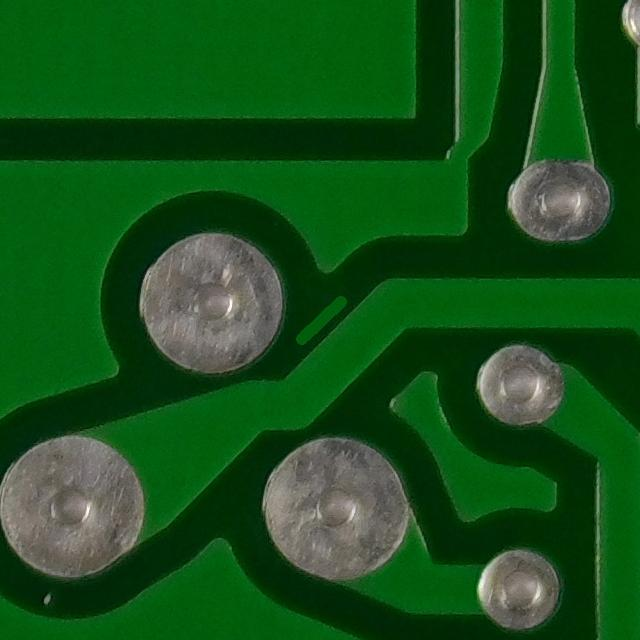spurious_copper: (274, 286, 366, 355)
